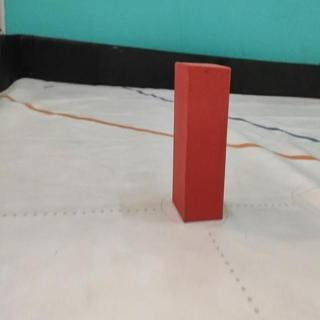redbox: (172, 59, 231, 222)
